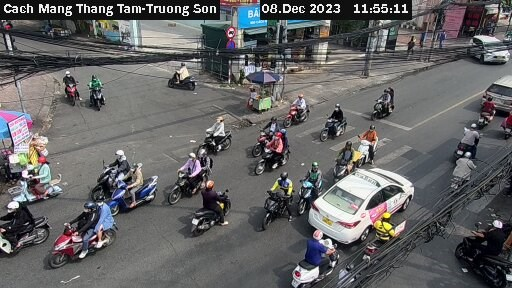car: (309, 167, 415, 235), (466, 27, 505, 67), (479, 69, 512, 106)
motorbike: (55, 205, 114, 270), (96, 167, 169, 213), (468, 211, 509, 288), (290, 228, 337, 286), (179, 177, 233, 227), (1, 202, 43, 261), (250, 176, 297, 228), (197, 117, 243, 162), (166, 158, 209, 199), (439, 151, 478, 195), (272, 89, 317, 127), (87, 154, 133, 190), (360, 83, 409, 115), (309, 100, 349, 139), (258, 139, 293, 180), (163, 61, 203, 94), (451, 118, 488, 151), (357, 123, 392, 155), (252, 118, 285, 150), (327, 143, 357, 174), (79, 77, 109, 107), (54, 73, 76, 109)
